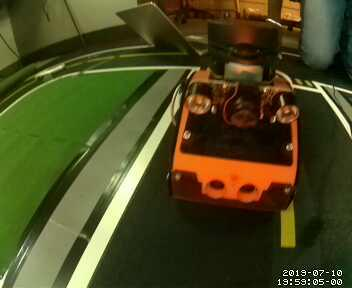pheeno: (168, 21, 300, 218)
